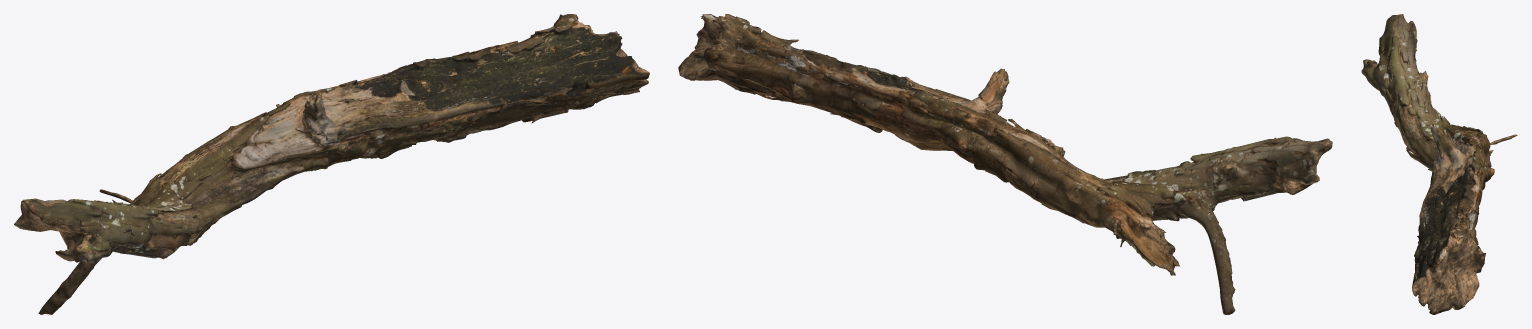
Rendered from dead_tree_trunk_02.glb.
3 views of the same model, side by side, from view 1: azimuth 30°, elevation 25°; view 2: azimuth 150°, elevation 25°; view 3: azimuth 270°, elevation 25° (orthographic). The views are drawn at different scales.
Parts seen in each view (by area): view 1: dead_tree_trunk_02; view 2: dead_tree_trunk_02; view 3: dead_tree_trunk_02.
Part boxes in pixels (x1,y1,x2,y2): dead_tree_trunk_02: (14, 14, 649, 314); dead_tree_trunk_02: (678, 14, 1332, 314); dead_tree_trunk_02: (1361, 14, 1517, 314).
Size of the model in its own units: 4.05 by 1.05 by 1.05.
Materials: 1 (1 with a texture image).
